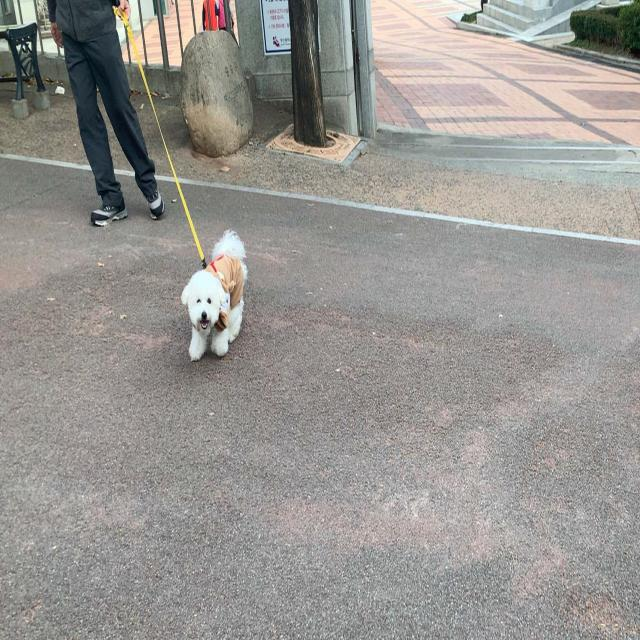Leashed_Dog: (85, 0, 248, 363)
